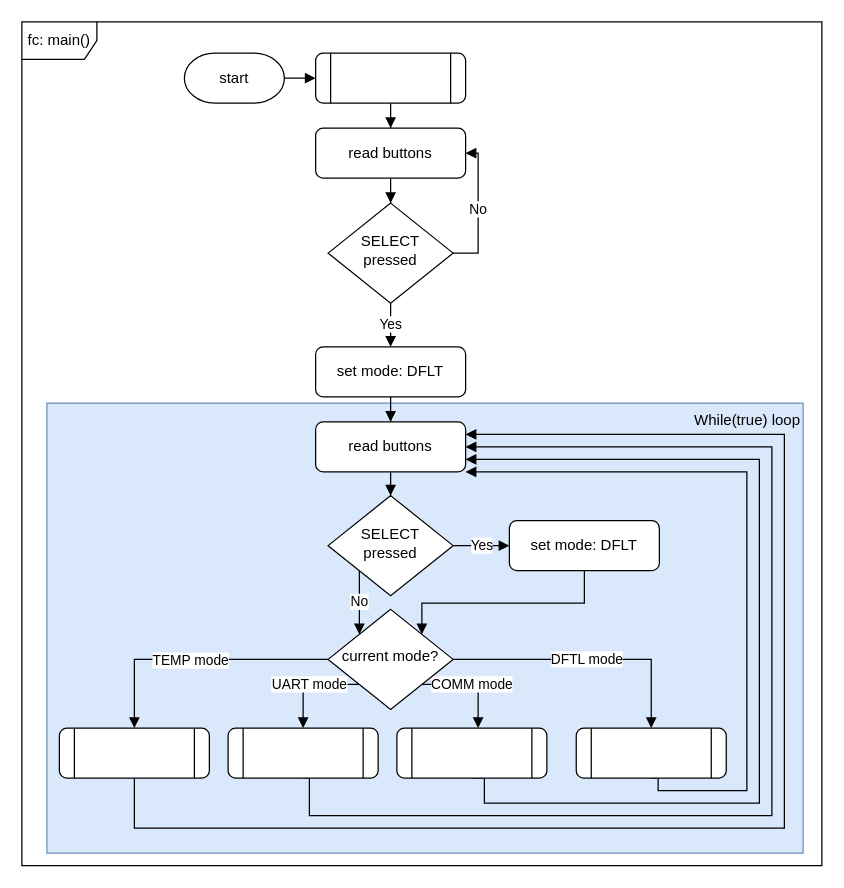
This 844x888 diagram has some shape labels left out. The shapes that lost their labels are listed below. From the top down, each one's centre as x and y in pixels, then its label:
At (x=390, y=77): "initialize peripherals".
At (x=133, y=752): "TEMP function".
At (x=302, y=752): "UART function".
At (x=471, y=752): "COMM function".
At (x=650, y=752): "DFLT function".
